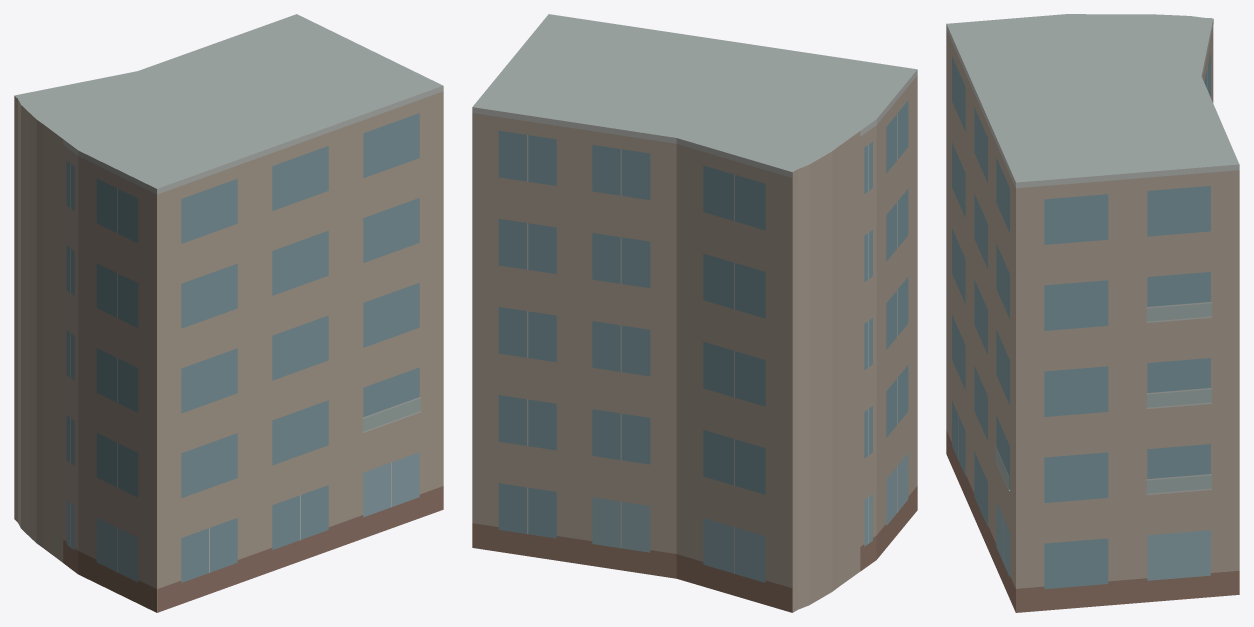
The model's file is survey-upis-32888126.glb.
The picture shows the model from 3 angles, left to right: view 1: azimuth 30°, elevation 25°; view 2: azimuth 150°, elevation 25°; view 3: azimuth 270°, elevation 25°; orthographic projection. The views are drawn at different scales.
Parts seen in each view (by area): view 1: survey-upis-32888126.tmp; view 2: survey-upis-32888126.tmp; view 3: survey-upis-32888126.tmp.
Part boxes in pixels (x1,y1,x2,y2): survey-upis-32888126.tmp: (14, 14, 443, 612); survey-upis-32888126.tmp: (472, 14, 917, 612); survey-upis-32888126.tmp: (946, 14, 1239, 612).
Size of the model in its own units: 15.47 by 18.4 by 11.37.
